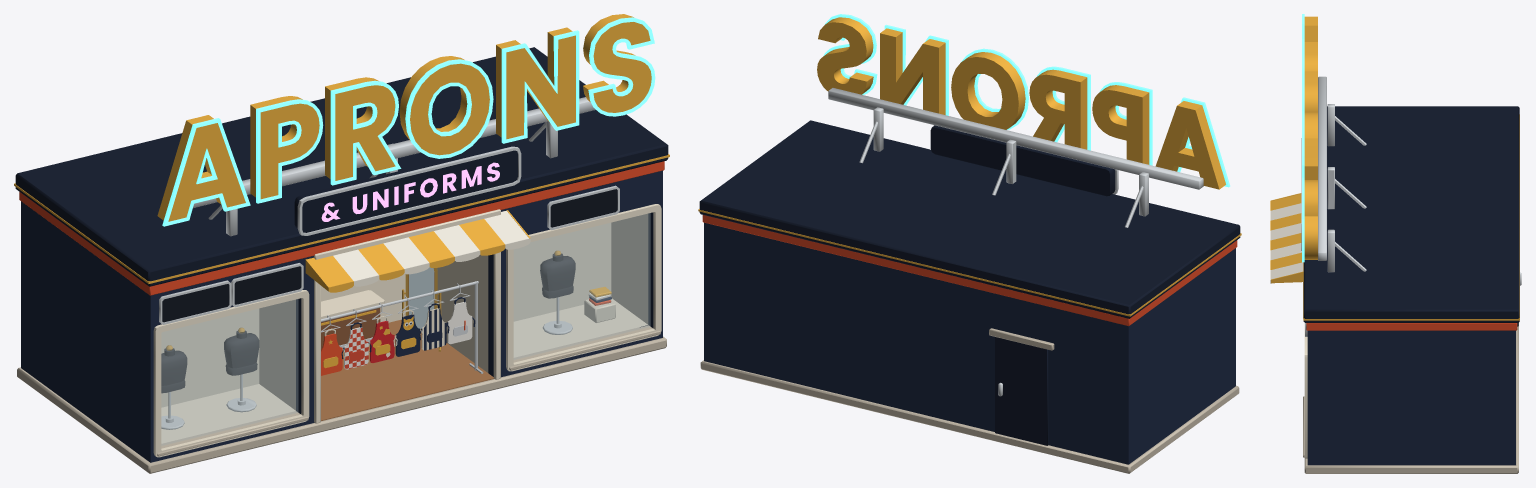
Rendered from Lobby_ApronShop.fbx.
3 renders of one model, left to right at view 1: azimuth 30°, elevation 25°; view 2: azimuth 150°, elevation 25°; view 3: azimuth 270°, elevation 25°, orthographic. The views are drawn at different scales.
Parts seen in each view (by area): view 1: Cornice, Glass, Facade, Interior, Letters, CreamTrim, LetterNeon, Stone, Chrome, ShopFloor, RedBand, MustardCloth (+13 smaller); view 2: Facade, Cornice, Letters, Chrome, Stone, RedBand, LetterNeon, Pinstripe; view 3: Cornice, Facade, Letters, Chrome, Stone, RedBand, MustardCloth, AwningCream, LetterNeon, Pinstripe, CreamTrim.
Part boxes in pixels (x1,y1,x2,y2): Cornice: [15, 47, 668, 286]; Glass: [161, 213, 650, 445]; Facade: [21, 170, 662, 462]; Interior: [161, 213, 648, 443]; Letters: [157, 14, 651, 221]; CreamTrim: [153, 204, 661, 457]; LetterNeon: [162, 17, 655, 226]; Stone: [17, 325, 666, 473]; Chrome: [159, 97, 619, 429]; ShopFloor: [321, 319, 494, 420]; RedBand: [19, 161, 664, 295]; MustardCloth: [305, 210, 611, 368]; Facade: [704, 222, 1235, 464]; Cornice: [699, 120, 1240, 445]; Letters: [817, 17, 1225, 189]; Chrome: [828, 88, 1203, 396]; Stone: [700, 328, 1239, 473]; RedBand: [702, 215, 1237, 326]; LetterNeon: [823, 14, 1230, 187]; Pinstripe: [698, 209, 1241, 316]; Cornice: [1303, 106, 1519, 326]; Facade: [1307, 330, 1515, 465]; Letters: [1304, 16, 1317, 259]; Chrome: [1301, 76, 1521, 336]; Stone: [1303, 282, 1518, 473]; RedBand: [1306, 323, 1517, 330]; MustardCloth: [1270, 193, 1303, 283]; AwningCream: [1270, 203, 1303, 283]; LetterNeon: [1302, 14, 1304, 262]; Pinstripe: [1303, 114, 1519, 320]; CreamTrim: [1304, 323, 1307, 458].
Size of the model in its own units: 3256 by 2037 by 1686.
